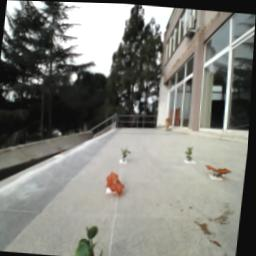herb: (81, 222, 112, 256), (185, 142, 197, 160), (122, 147, 134, 160)
wild: (106, 169, 129, 198), (206, 162, 235, 177)
